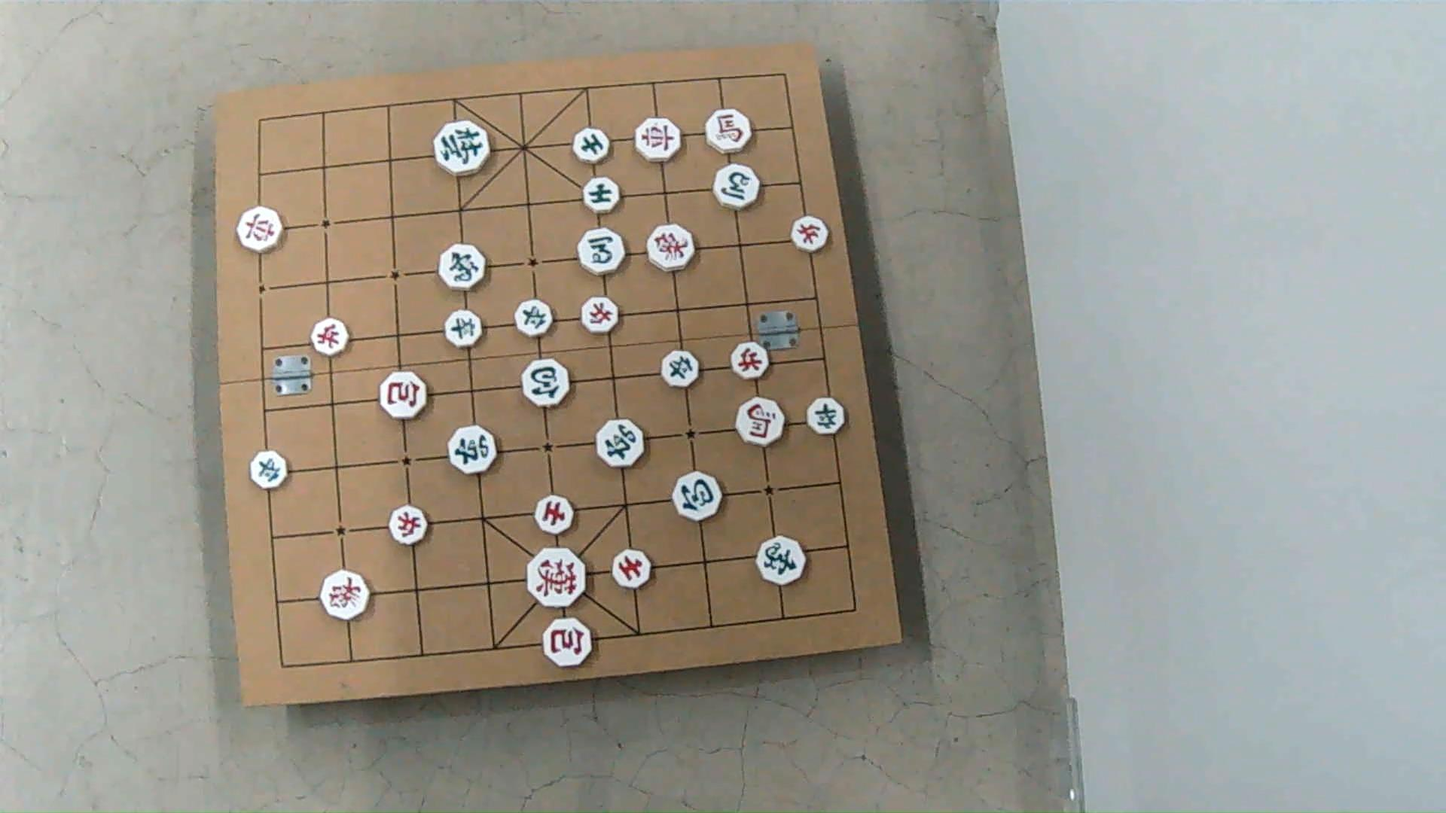cha_green: (596, 420, 645, 469), (449, 427, 498, 475)
cha_red: (236, 207, 281, 253), (633, 119, 679, 163)
jol_green: (248, 449, 285, 488), (661, 350, 700, 387), (807, 397, 844, 435), (514, 297, 551, 334), (446, 310, 484, 346)
jol_red: (390, 507, 428, 547), (313, 318, 350, 356), (584, 297, 622, 333), (790, 216, 827, 252), (731, 343, 767, 379)
ma_green: (577, 227, 624, 274), (712, 165, 758, 210)
ma_red: (737, 397, 786, 445), (706, 111, 752, 154)
po_green: (671, 472, 719, 522), (523, 359, 571, 408)
po_red: (543, 618, 592, 667), (379, 373, 426, 421)
sa_green: (572, 128, 610, 163), (582, 176, 618, 212)
sa_red: (535, 496, 575, 535), (615, 548, 653, 586)
sang_green: (758, 537, 807, 586), (440, 245, 487, 291)
sang_red: (321, 571, 369, 620), (645, 225, 693, 272)
wang_green: (435, 120, 490, 175)
wang_red: (527, 547, 587, 607)
